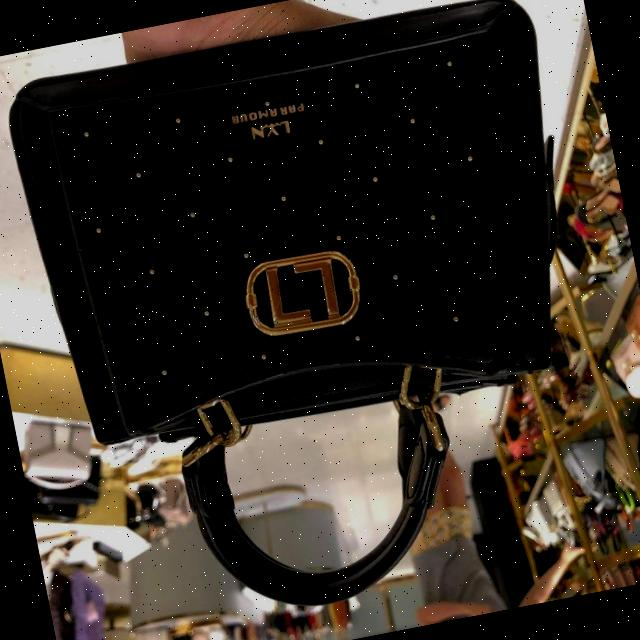Handbag: (0, 0, 611, 535)
